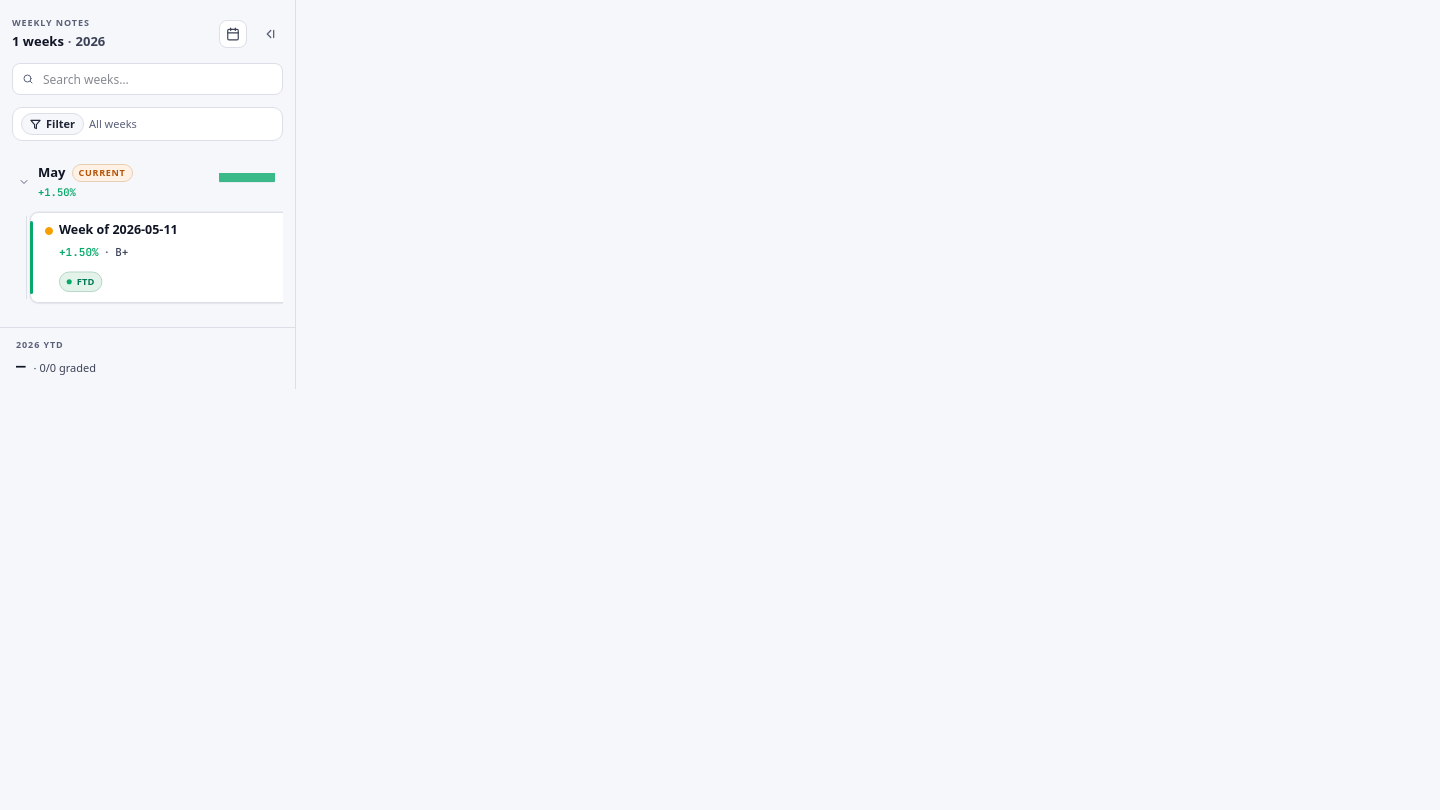
Test: NotesRail — Phase 6 left-rail navigator › × on ActiveTagChip removes that filter
Step 1. Click the button with test id "rail-filter-trigger" → (52, 124), box [21,113,84,135]
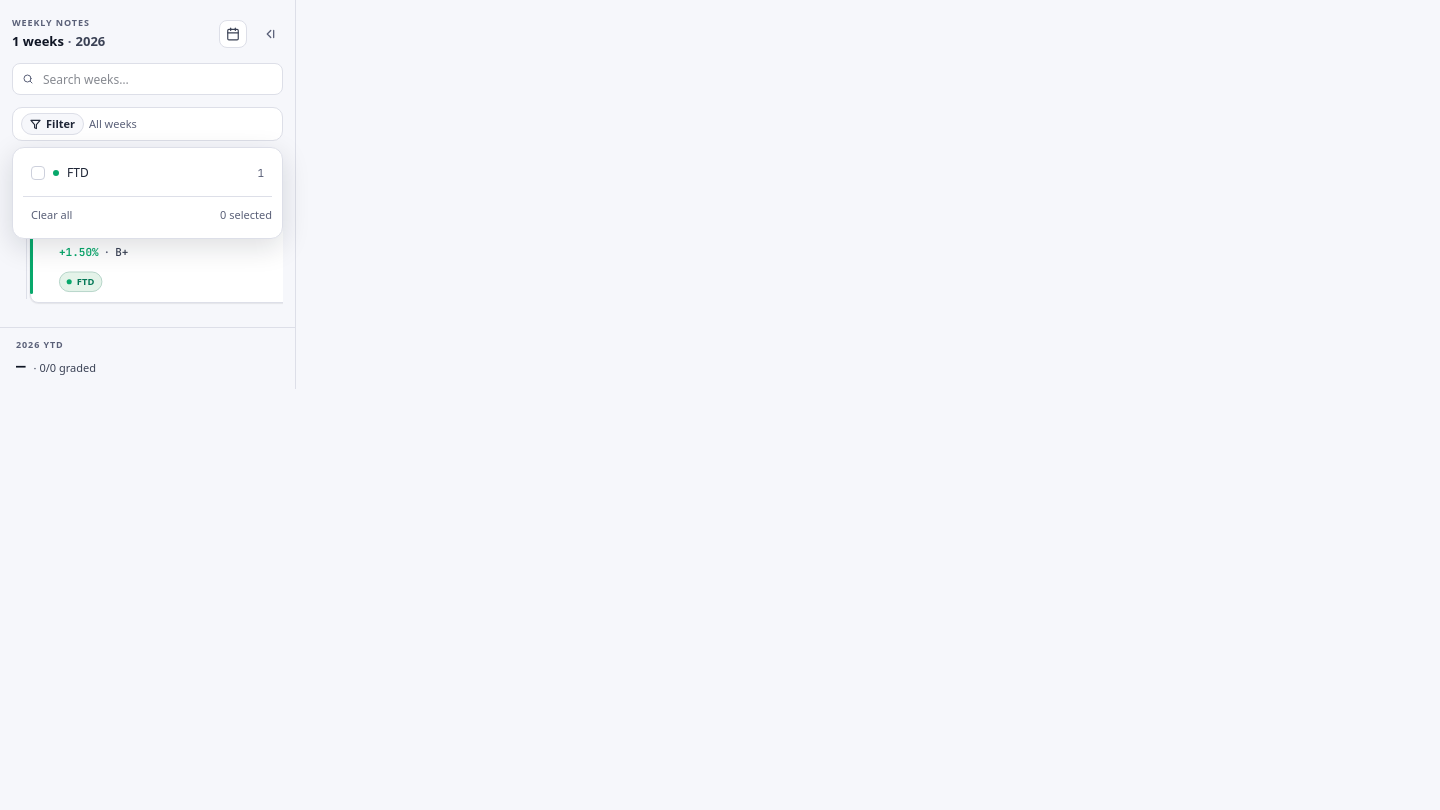
Step 2. Click the button with test id "rail-filter-option" → (148, 173), box [23,158,272,188]
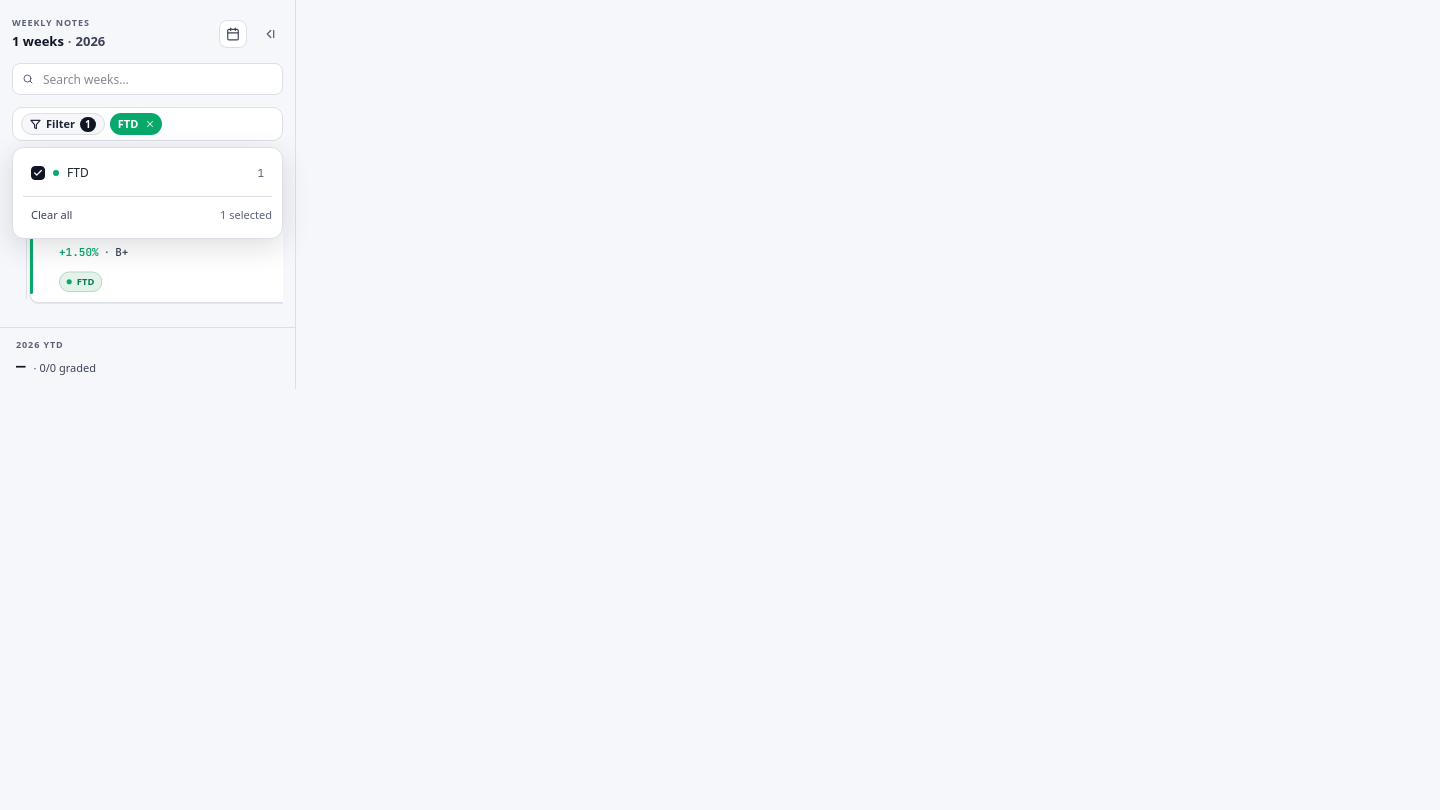
Check: the element with test id "rail-filter-chip" is shown, box [110,113,162,135]
Step 3. Click the button named "Remove FTD filter" → (150, 124), box [142,116,158,132]
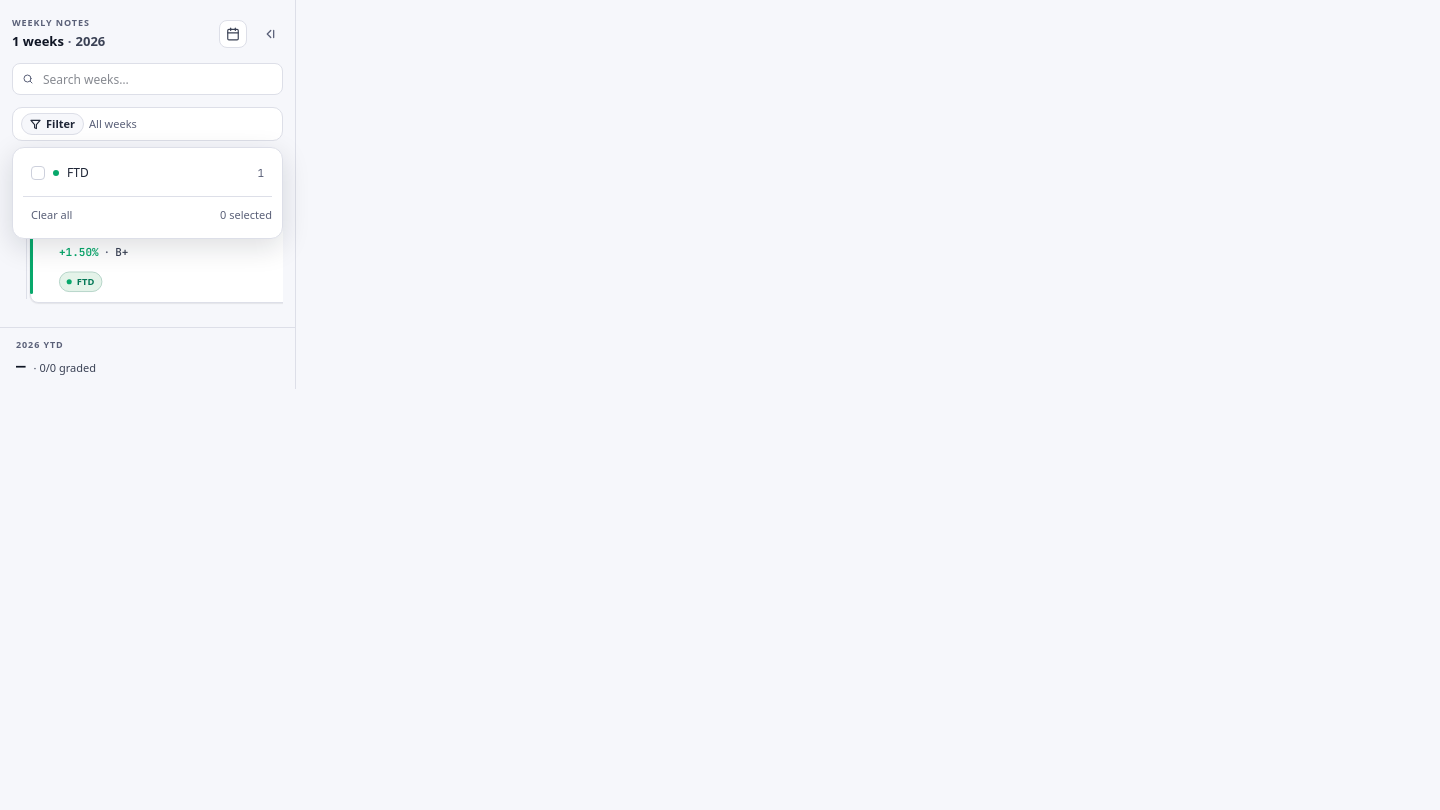
Check: the element with test id "rail-filter-chip" is gone
Check: the text "All weeks" is shown, box [89,116,137,132]
